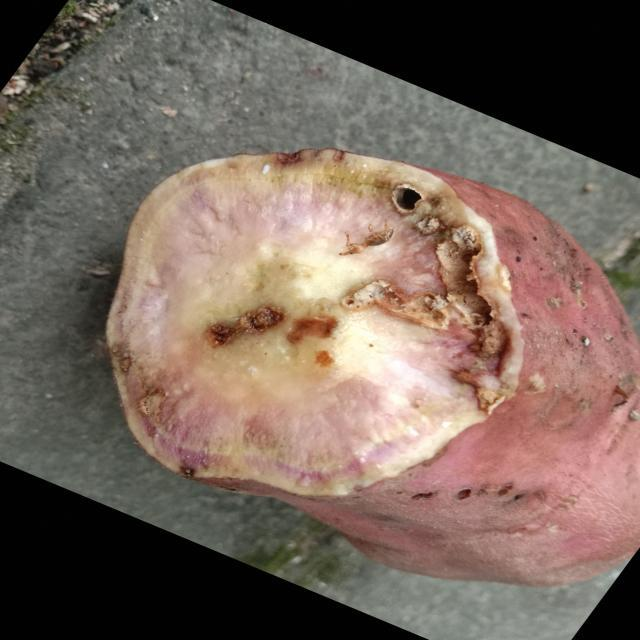Sick Sweet Potato_Tuber Rot: (107, 149, 523, 496)
